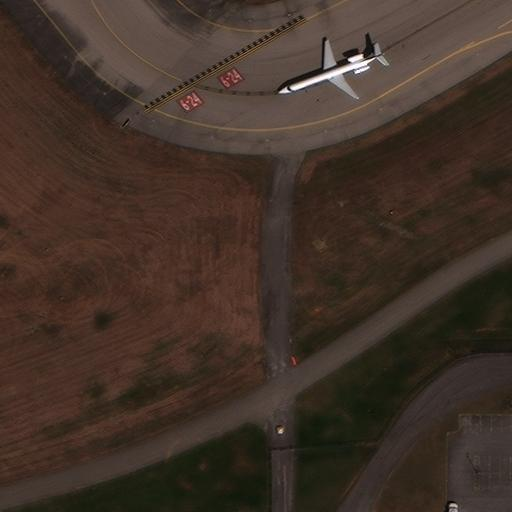Medium Civil Transport: (279, 39, 384, 98)
